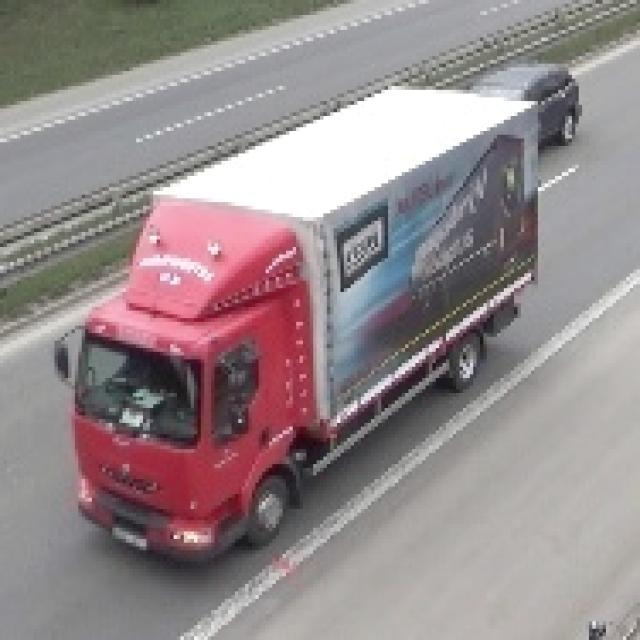truck: (49, 80, 536, 566)
